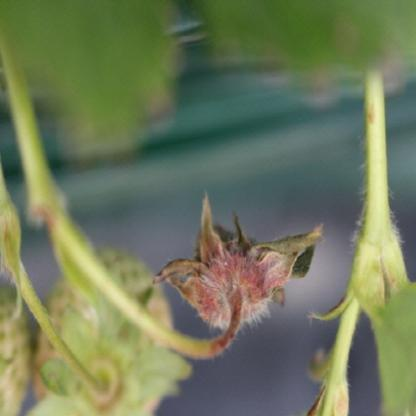Strawberry_Gray_Mold: (150, 191, 324, 353)
